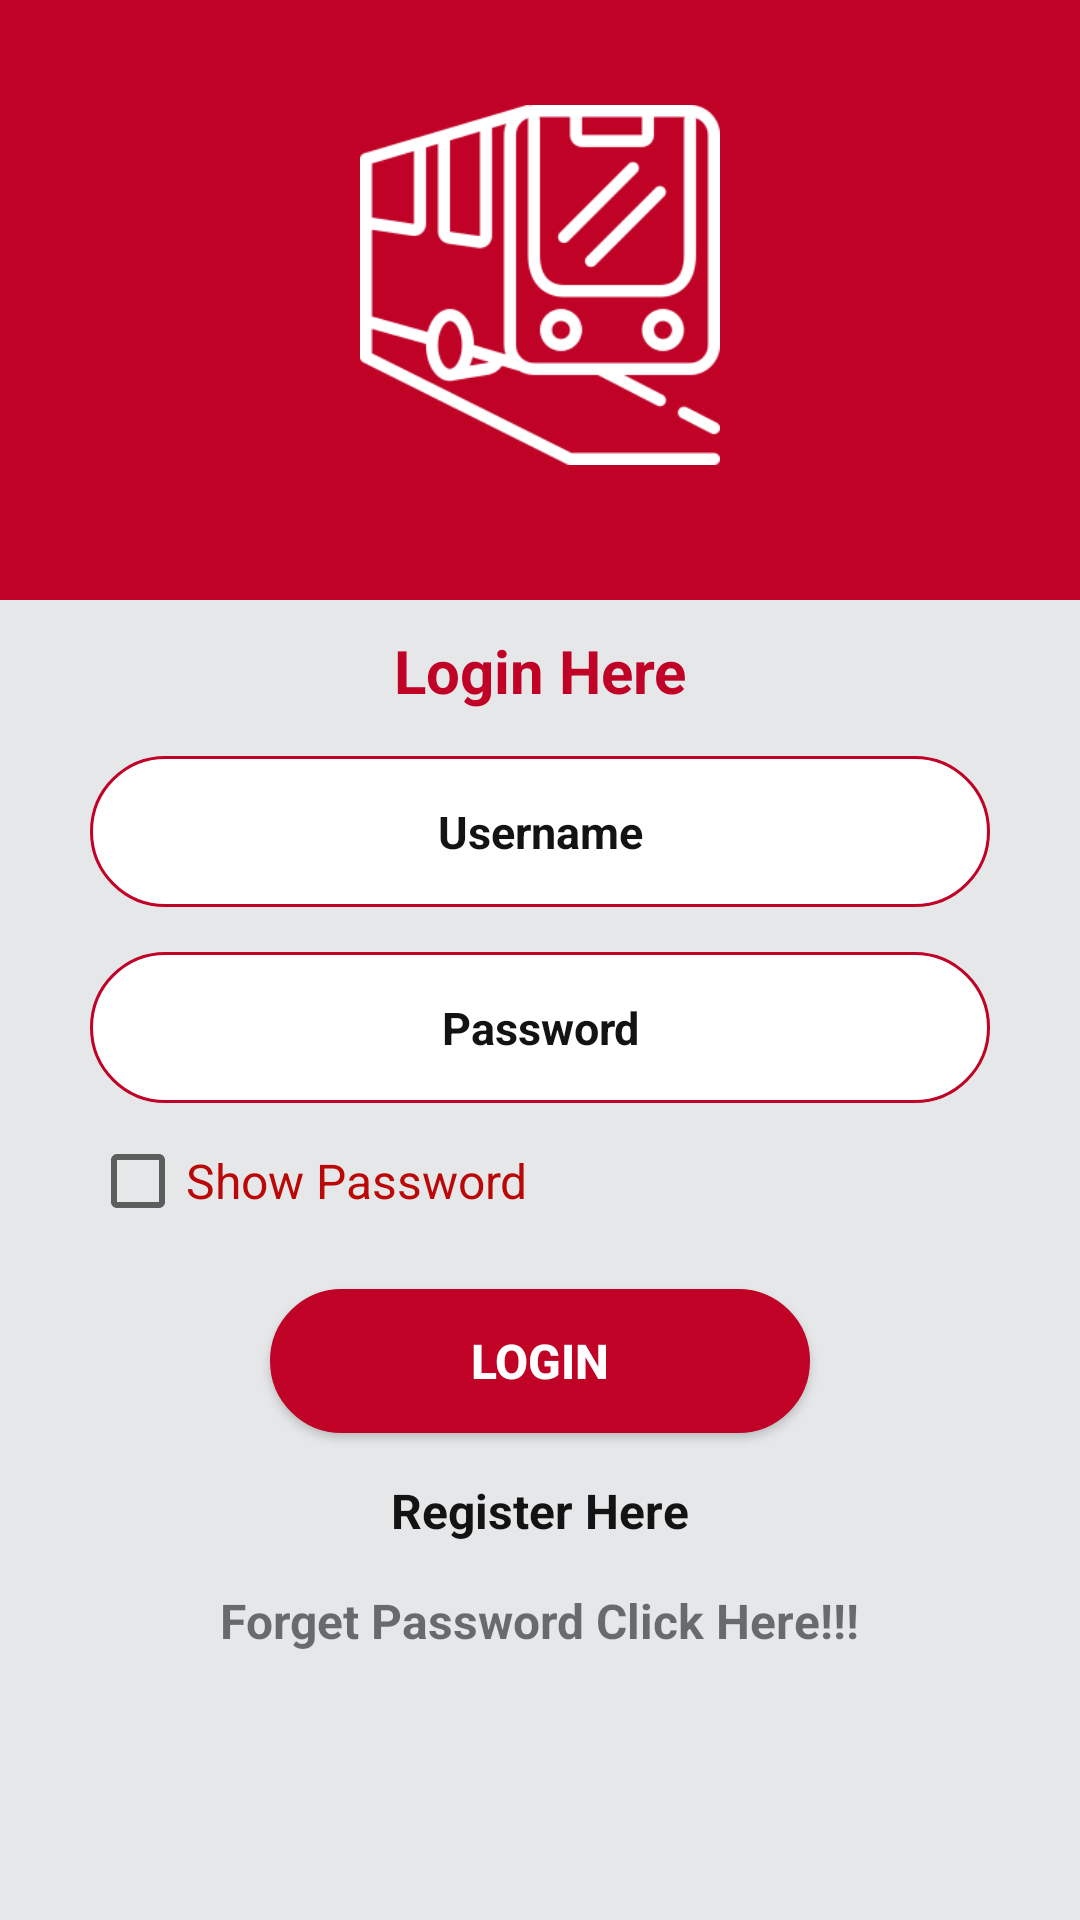

Icon bounding boxes for this 1080*1920 phone screenshot, format bbox(x1, y1, x2, y2):
bus: bbox(360, 105, 720, 465)
